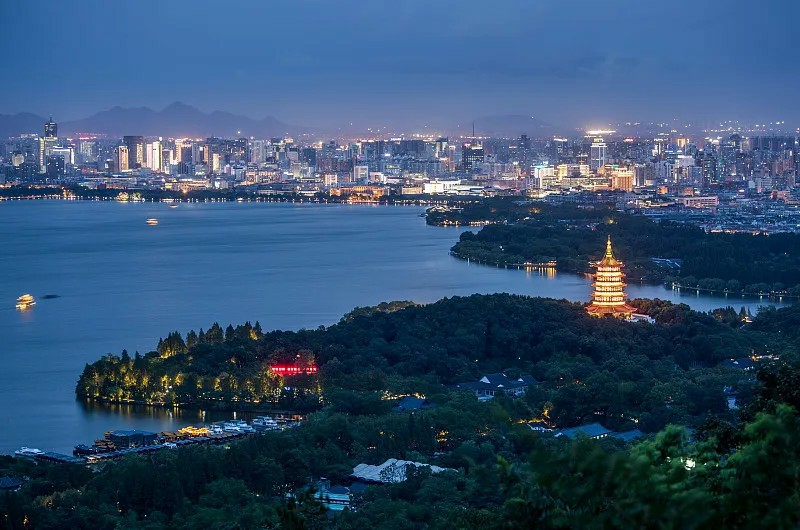Leifeng: (584, 234, 637, 322)
